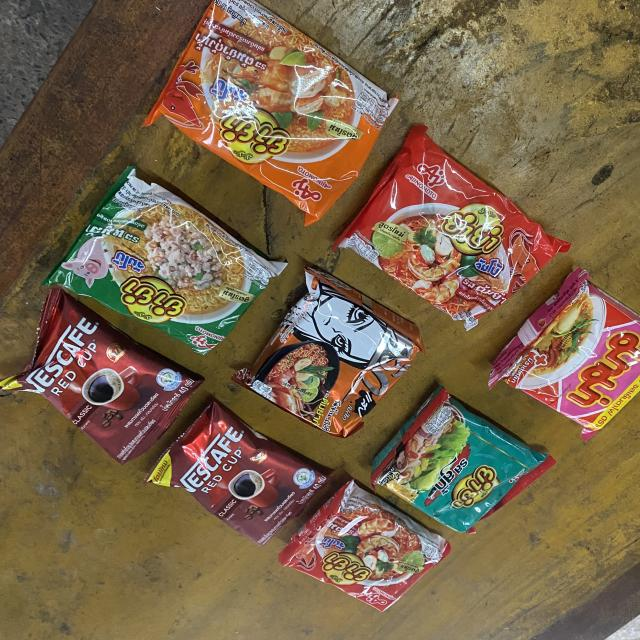plastik: (144, 0, 397, 225), (333, 125, 570, 330), (44, 167, 287, 354), (0, 288, 204, 464), (233, 267, 425, 437), (371, 386, 556, 533), (146, 401, 329, 546), (488, 269, 640, 440), (278, 480, 451, 611)
